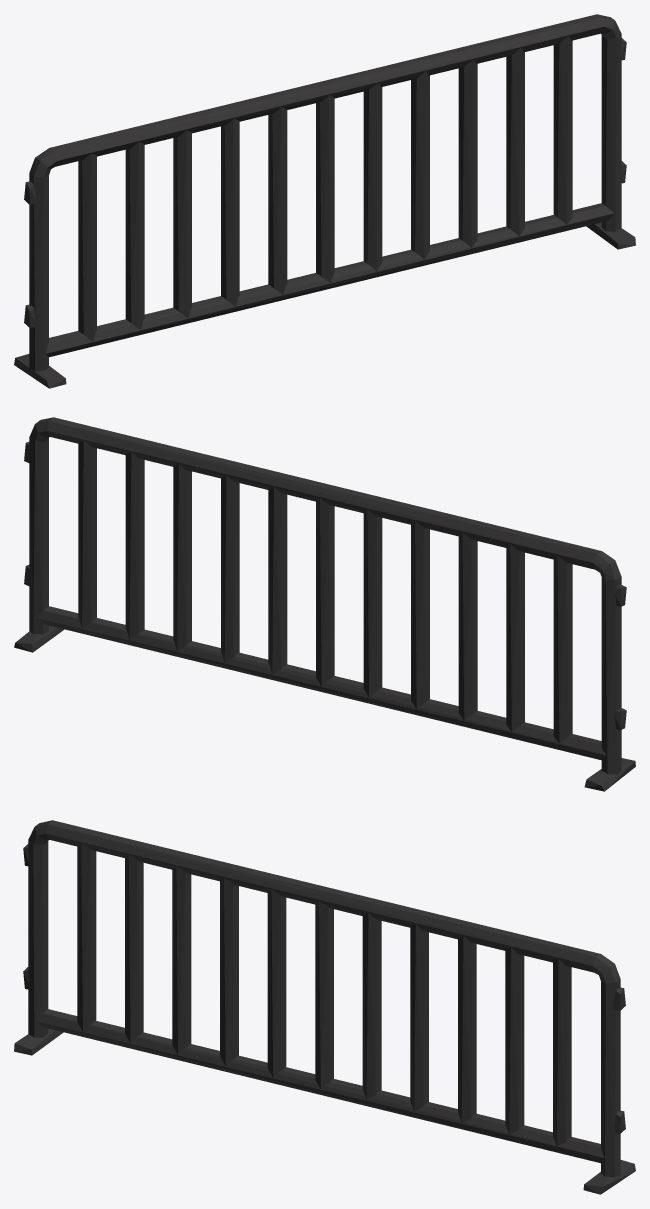
The model's file is fence1.fbx.
3 views of the same model, one above another, from view 1: azimuth 30°, elevation 25°; view 2: azimuth 150°, elevation 25°; view 3: azimuth 330°, elevation 25° (orthographic).
Visible parts, largest first — view 1: MESH; view 2: MESH; view 3: MESH.
Boxes of the visible parts, box(x1,y1,x2,y2) form: MESH: box(14, 14, 635, 388); MESH: box(14, 417, 635, 791); MESH: box(14, 820, 635, 1194).
Bounding box in the file's own units: 277 × 98.58 × 27.51.
